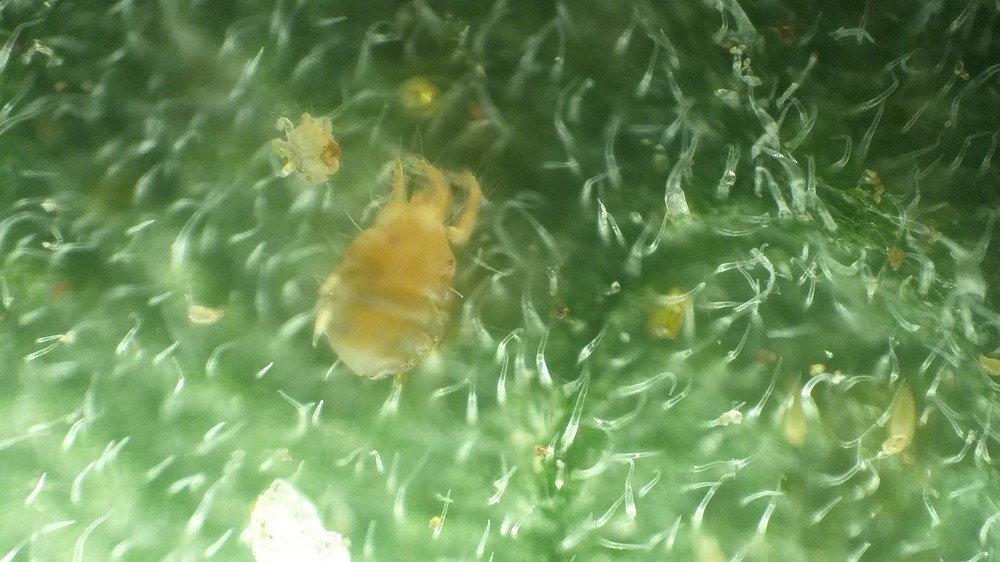Aracnido Rojo: (286, 148, 507, 395), (263, 109, 350, 186)
